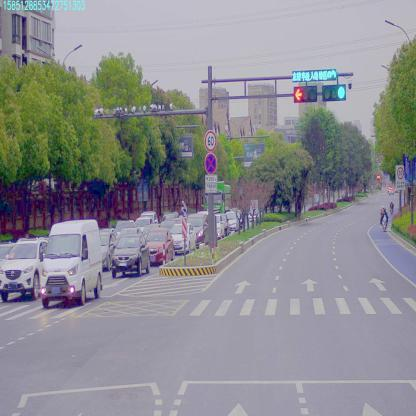traffic-light: (292, 66, 338, 82), (323, 87, 347, 104), (294, 87, 318, 104)
